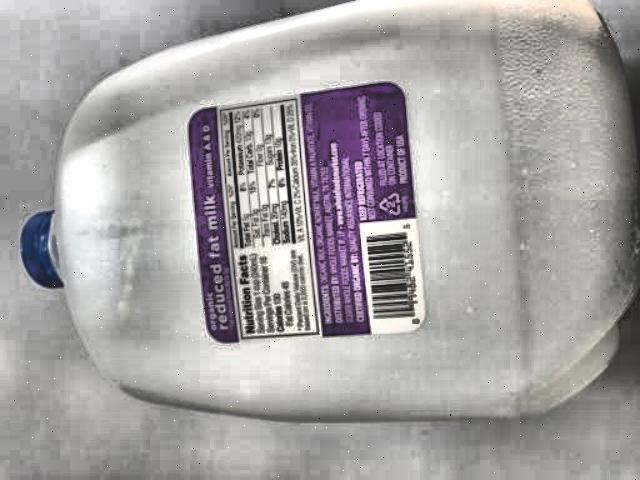Plastic: (24, 0, 640, 428)
